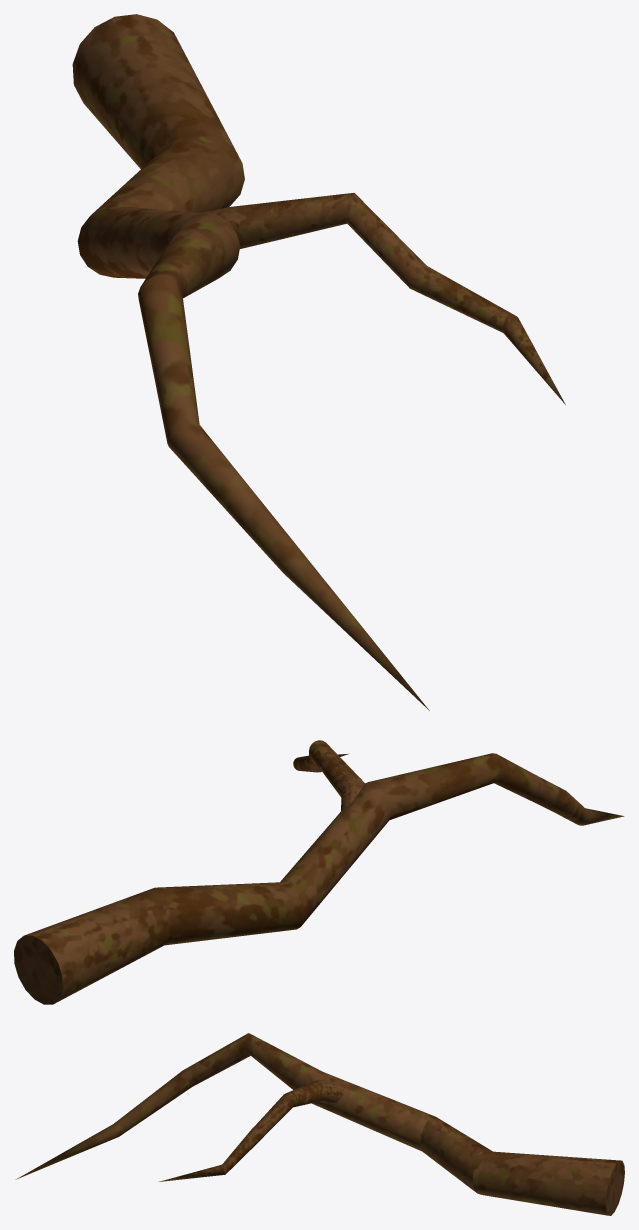
The model's file is Sm_Branches8.fbx.
The picture shows the model from 3 angles, top to bottom: view 1: azimuth 30°, elevation 25°; view 2: azimuth 150°, elevation 25°; view 3: azimuth 270°, elevation 25°; orthographic projection. The views are drawn at different scales.
Parts seen in each view (by area): view 1: Sm_Branches8; view 2: Sm_Branches8; view 3: Sm_Branches8.
Boxes of the visible parts, x1,y1,x2,y2 form: Sm_Branches8: (72, 14, 565, 710); Sm_Branches8: (14, 740, 624, 1004); Sm_Branches8: (15, 1033, 624, 1215).
Size of the model in its own units: 32.55 by 19.66 by 79.07.
